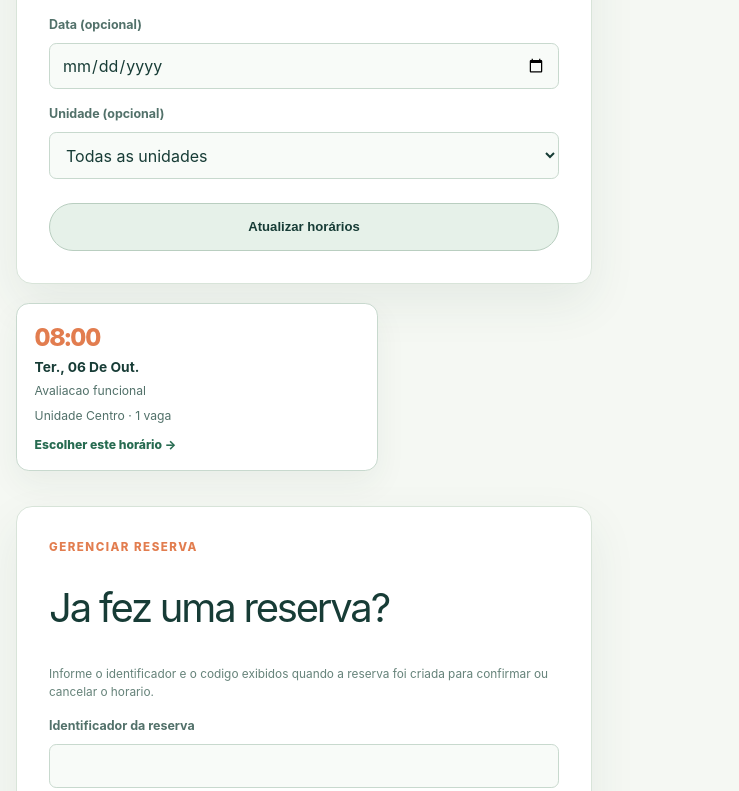
Test: public booking › exibe cards de horarios e envia uma reserva com chave idempotente
(page scrolled)
Click the button "Escolher". click: (67,337)
box: [16,303,378,471]
(page scrolled)
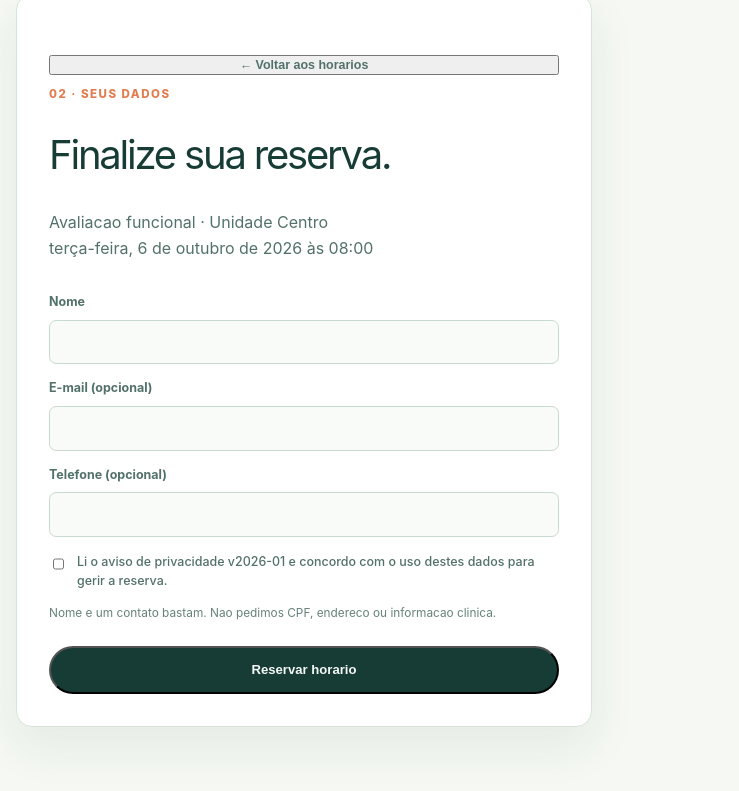
Type "Pessoa Demo" into the field labelled "Nome". click: (304,342)
box: [49,320,559,364]
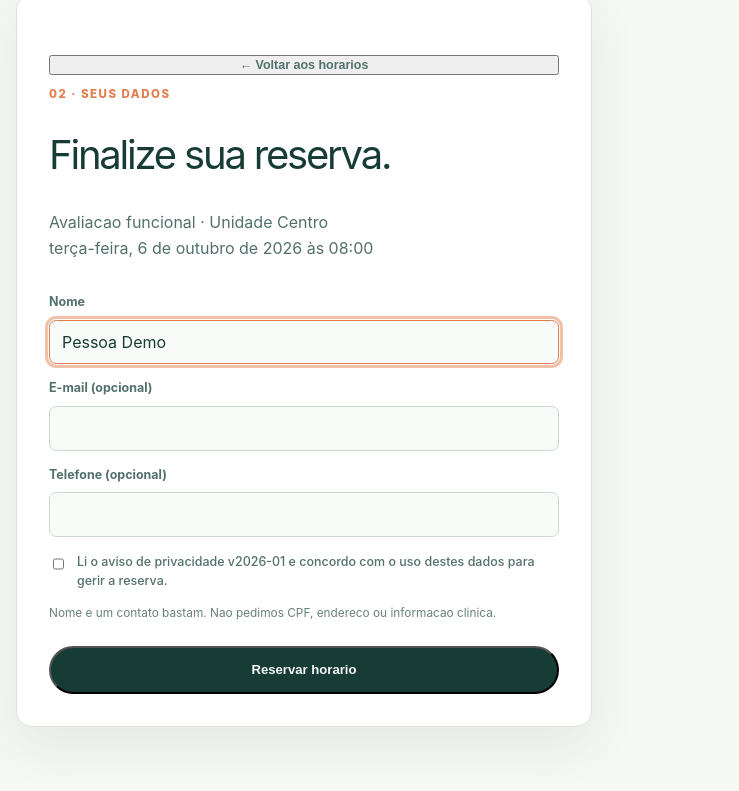
Type "demo@example.com" into the field labelled "E-mail (opcional)". click: (304,428)
box: [49,406,559,451]
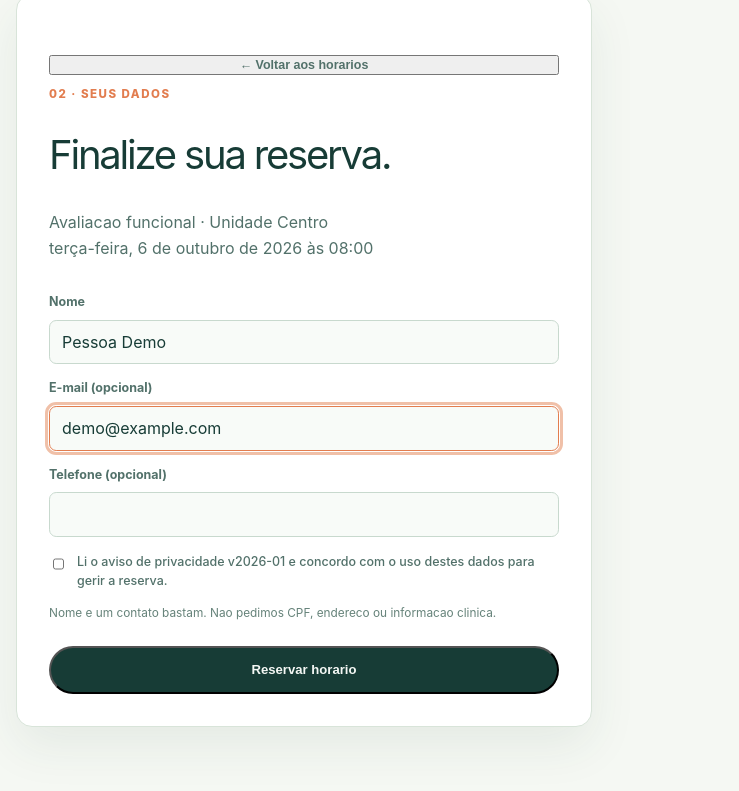
Click the checkbox. click: (59,564)
box: [53,556,64,572]
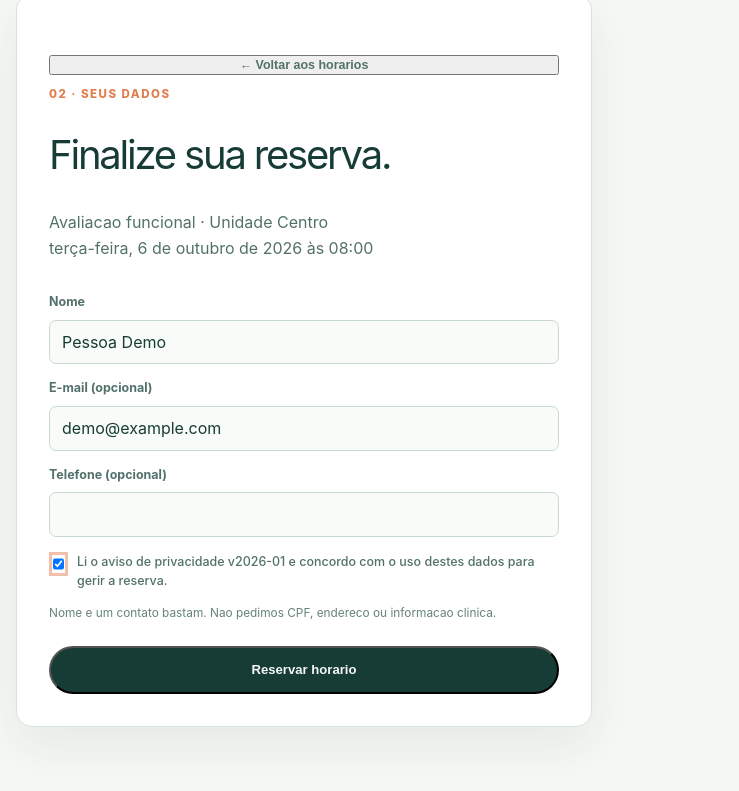
Click the button "Reservar horario". click: (304,670)
box: [49,646,559,694]
(page scrolled)
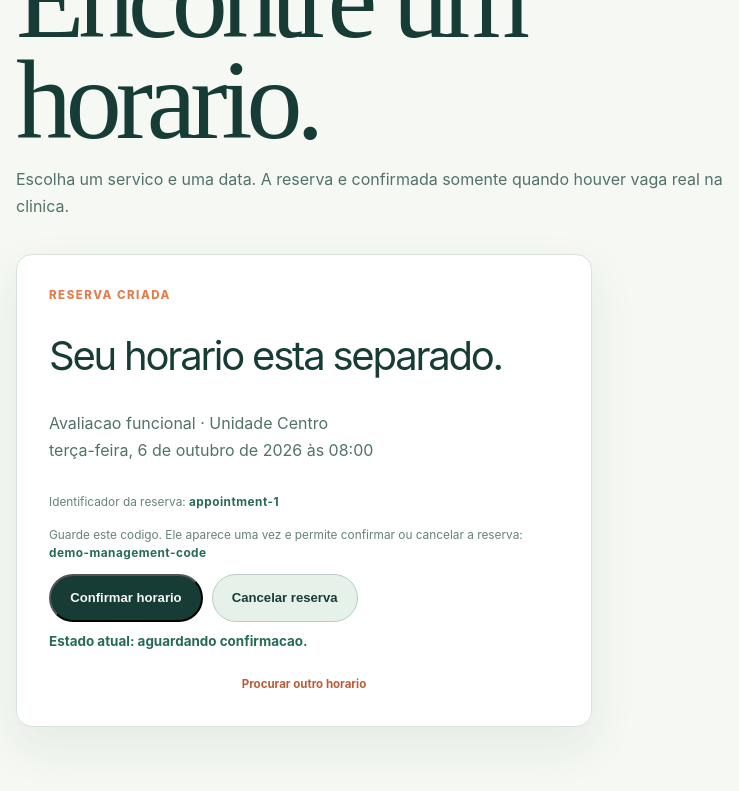
Expected: the text "demo-management-code" is shown, [49,546,207,560]
